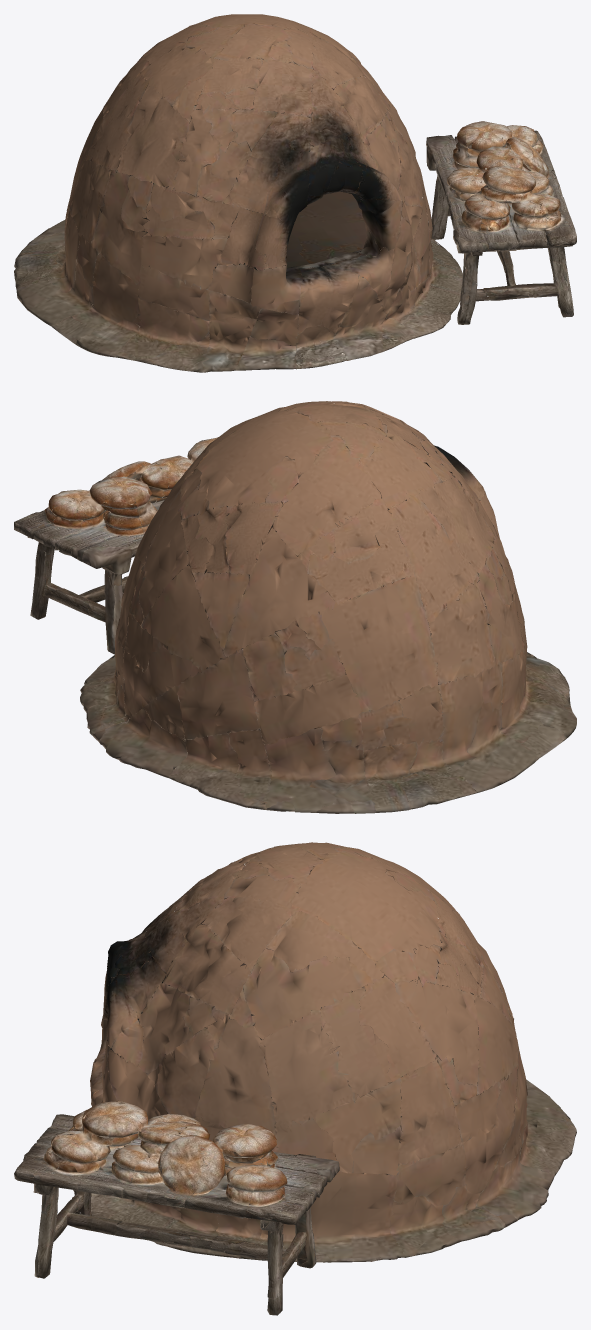
File: clay-oven.glb
3 renders of one model, top to bottom at view 1: azimuth 30°, elevation 25°; view 2: azimuth 150°, elevation 25°; view 3: azimuth 270°, elevation 25°, orthographic. The views are drawn at different scales.
Parts seen in each view (by area): view 1: Mesh_0; view 2: Mesh_0; view 3: Mesh_0.
Boxes of the visible parts, left/top/right/bottom form: Mesh_0: left=14, top=14, right=576, bottom=372; Mesh_0: left=14, top=401, right=576, bottom=813; Mesh_0: left=14, top=842, right=576, bottom=1315.
Size of the model in its own units: 2.36 by 1.2 by 2.04.
Materials: 1 (1 with a texture image).
